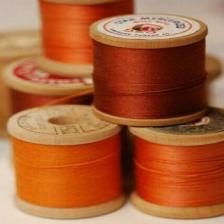orange: (8, 105, 125, 219)
